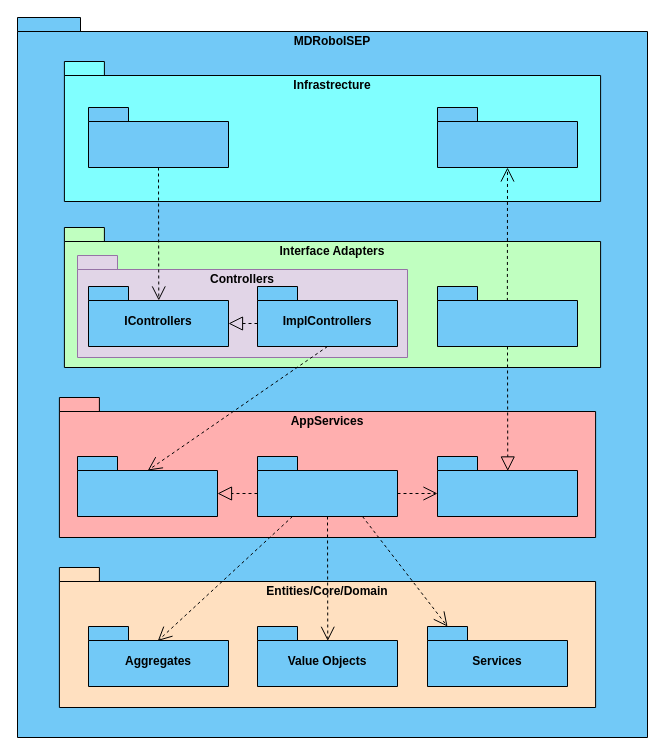
The diagram is 665 pixels wide and 755 high, and some of its shapes have lost their labels. The centre of each missing label's shape, as x and y in pixels:
IAppServices: [147,486]
ImplAppServices: [327,486]
IRepositories: [507,486]
Persistence: [507,137]
Repositories: [507,316]
Routes: [158,137]
